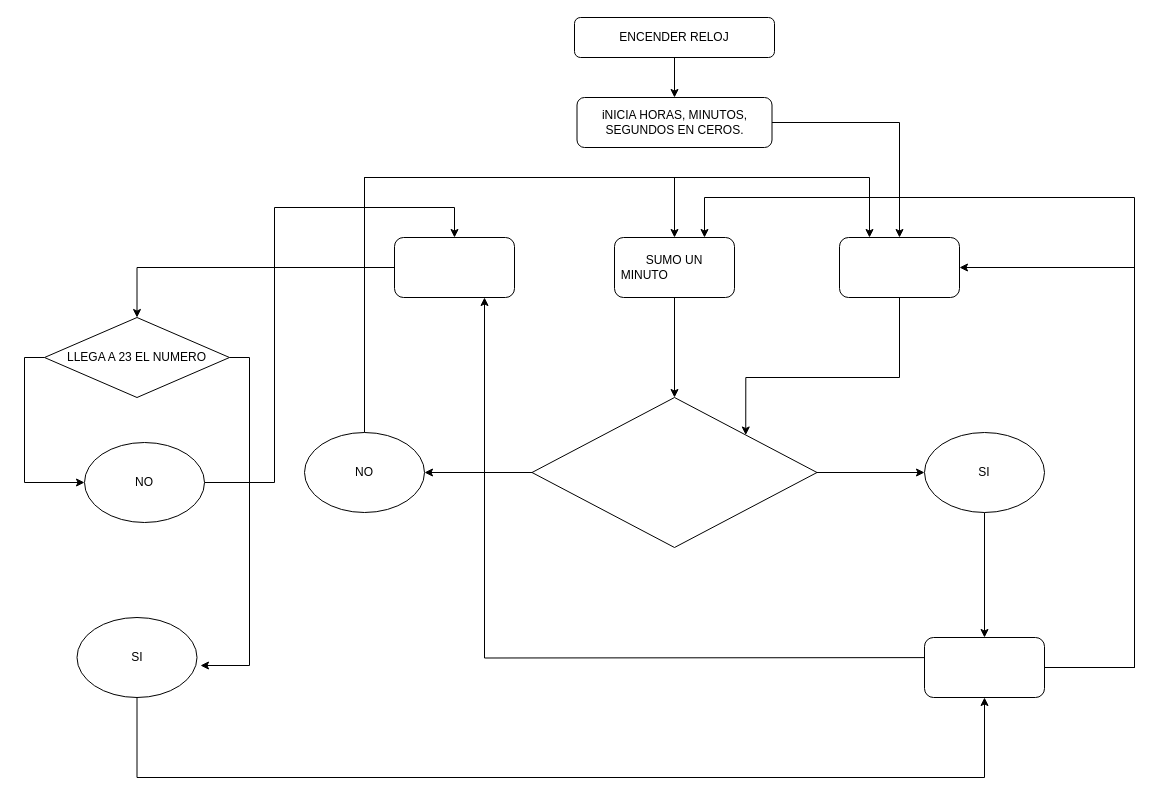
The diagram is 1160 pixels wide and 803 high, and some of its shapes have lost their labels. The shapes that lost their labels are listed below. From the top down, each one's box as (x1, y1, x2, y2) in pixels, then its label:
(394, 236, 514, 298): SUMO UNA HORA
(838, 236, 960, 298): SUMO UN SEGUNDO
(531, 396, 817, 548): EL NUMERO LLEGA A 59
(924, 636, 1044, 698): DEJO EN CEROS
